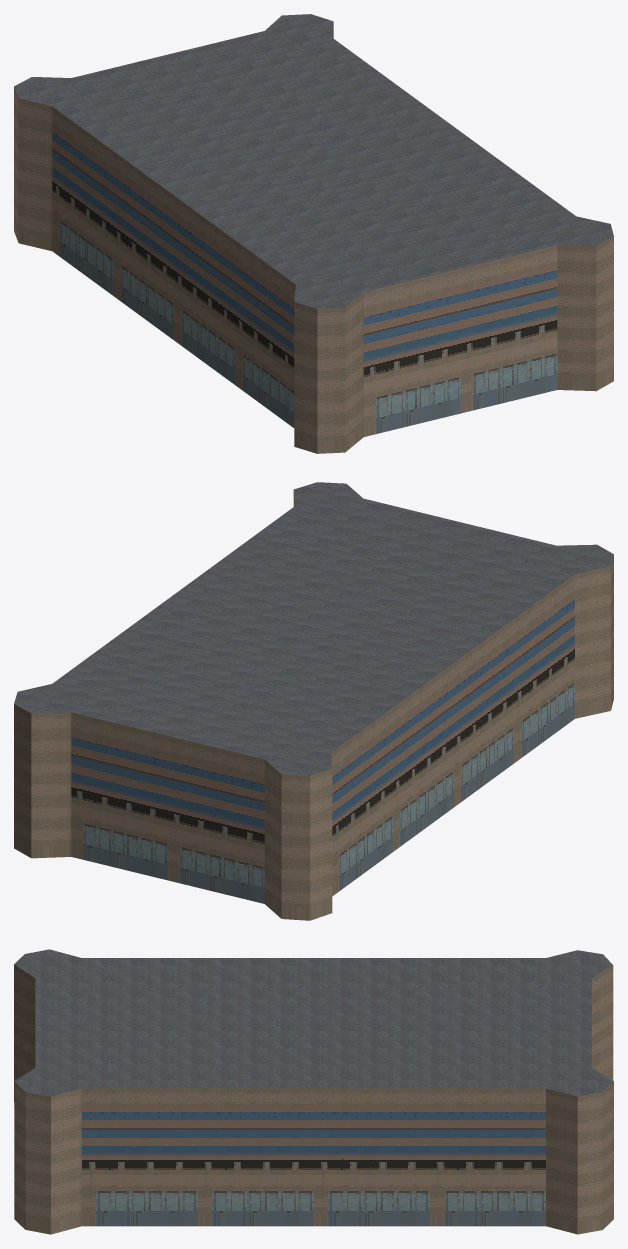
Rendered from lodbldng01_lvs.obj.
3 views of the same model, one above another, from view 1: azimuth 30°, elevation 25°; view 2: azimuth 150°, elevation 25°; view 3: azimuth 270°, elevation 25° (orthographic). The views are drawn at different scales.
Visible parts, largest first — view 1: lodbldng01_lvs; view 2: lodbldng01_lvs; view 3: lodbldng01_lvs.
Part boxes in pixels (x1,y1,x2,y2): lodbldng01_lvs: [14, 14, 613, 453]; lodbldng01_lvs: [14, 482, 613, 920]; lodbldng01_lvs: [14, 949, 613, 1234].
Bounding box in the file's own units: 57.56 × 25.12 × 99.05.
3 materials, 3 textured.
